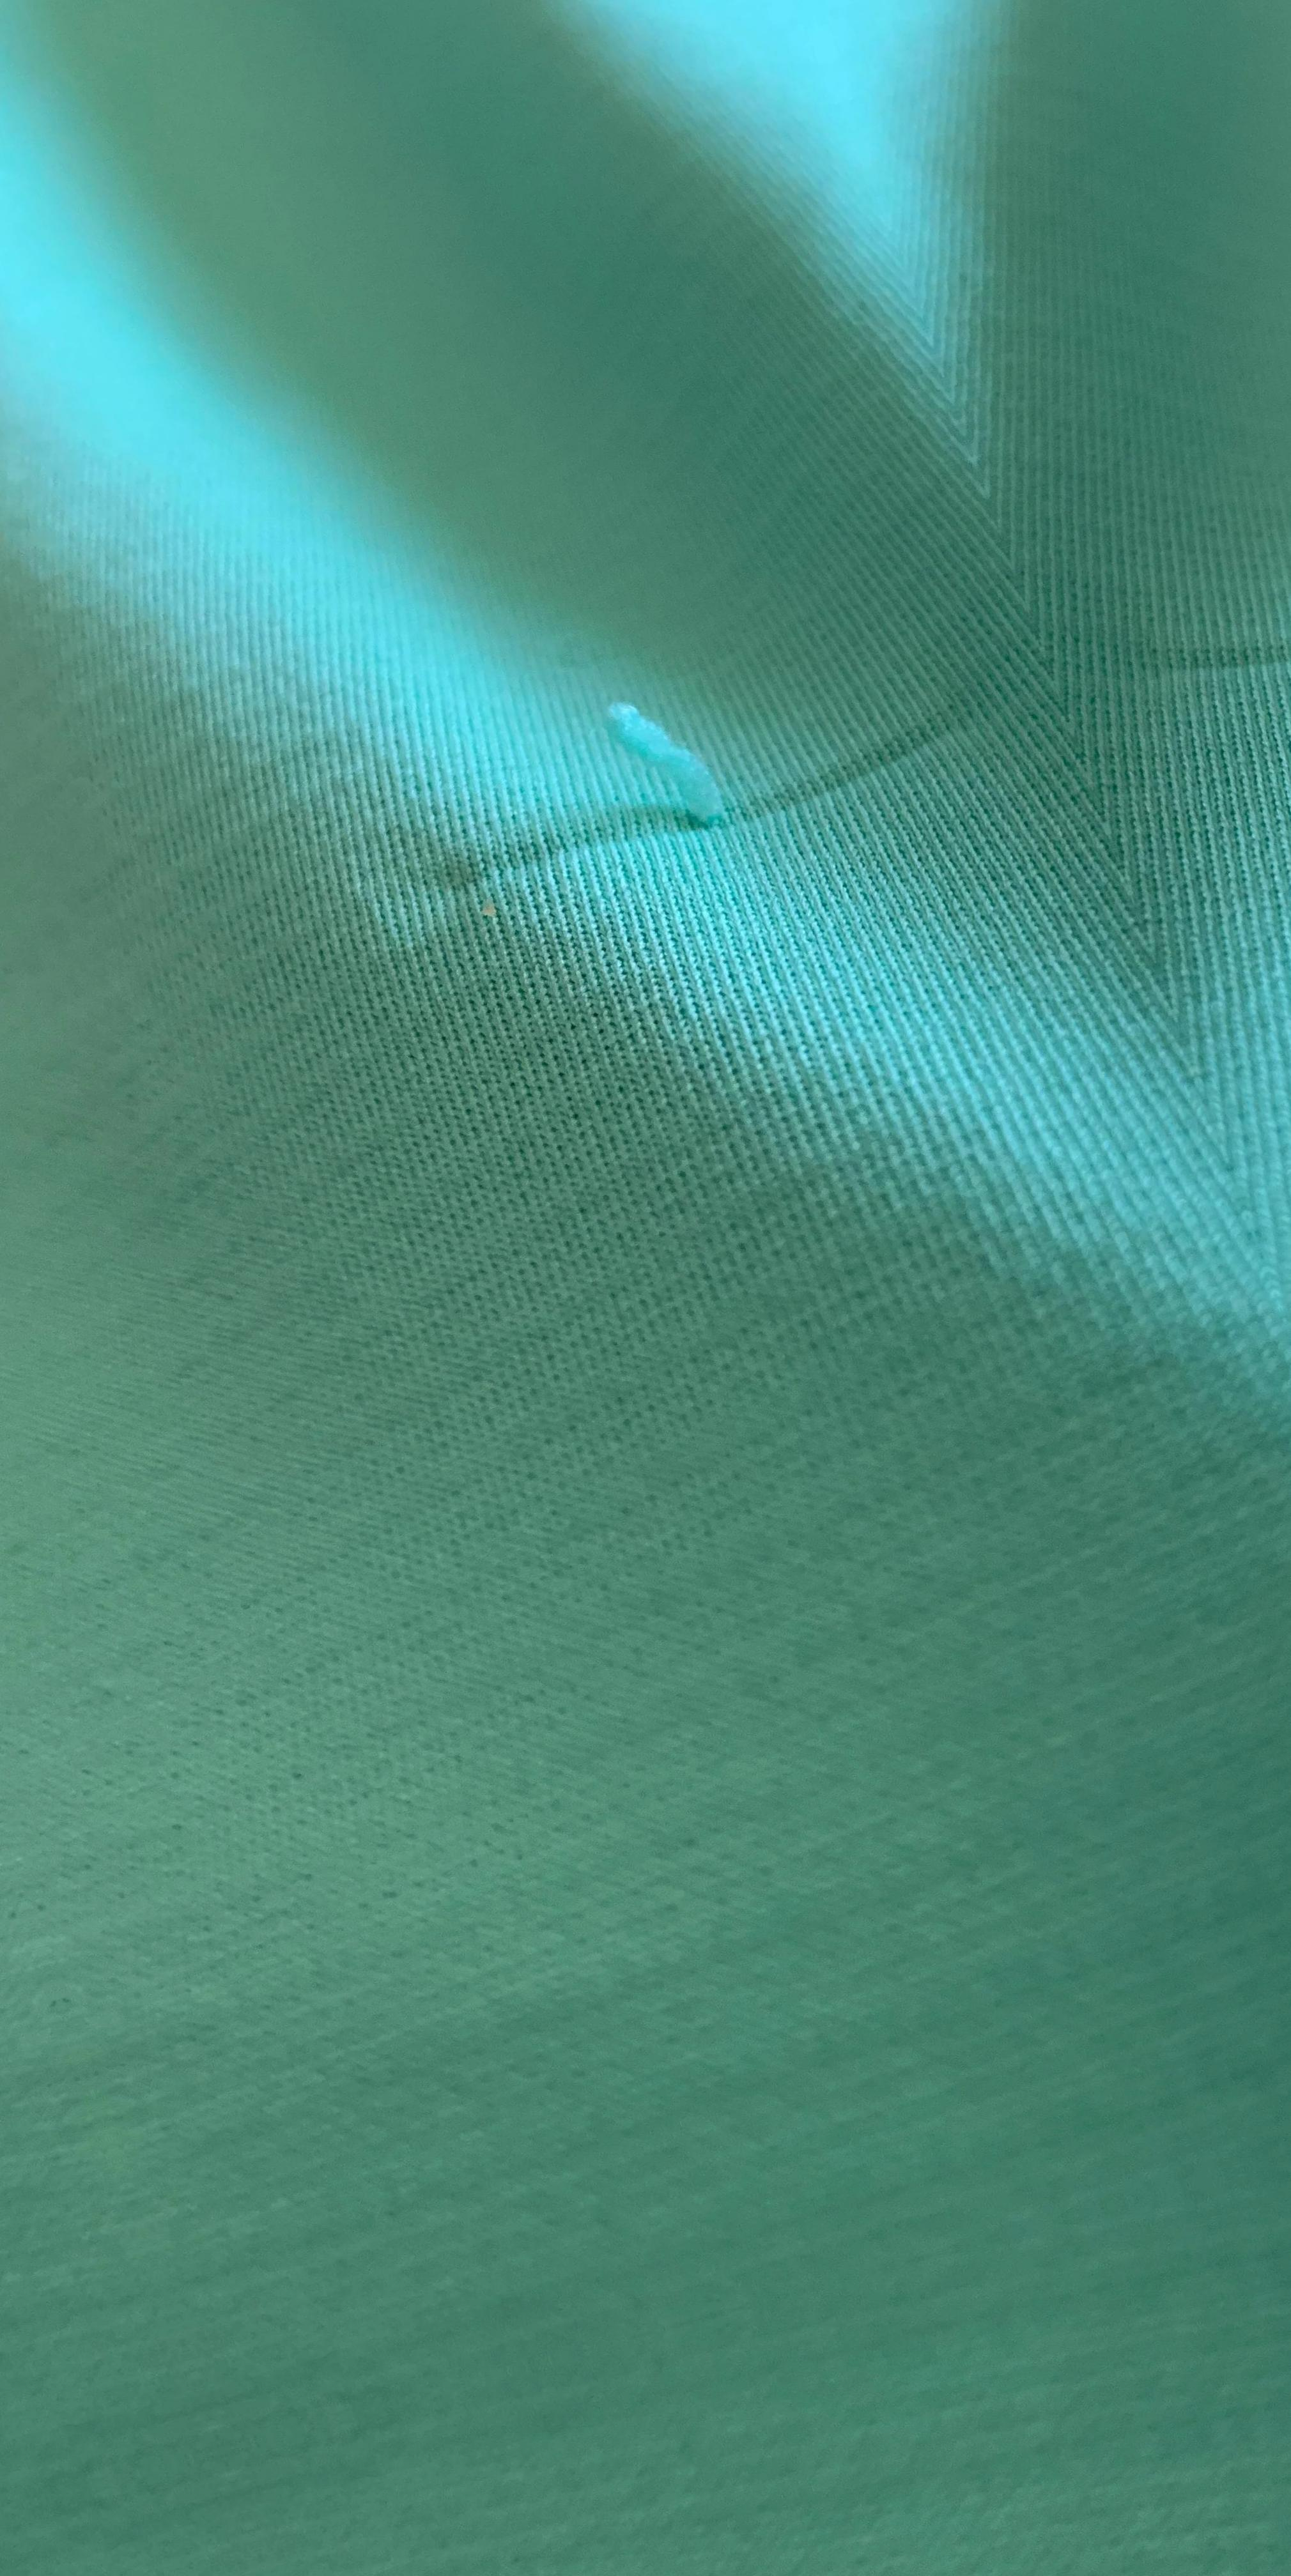snag: (538, 607, 807, 897)
